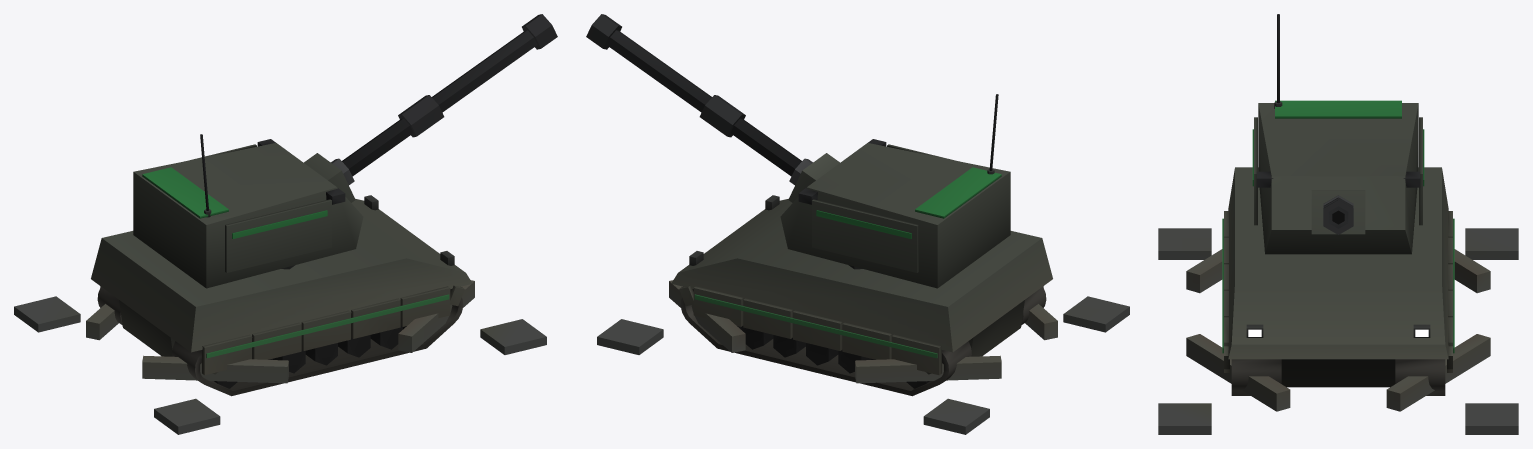
The model's file is u_arty_lod1.glb.
3 renders of one model, left to right at view 1: azimuth 30°, elevation 25°; view 2: azimuth 150°, elevation 25°; view 3: azimuth 270°, elevation 25°, orthographic. The views are drawn at different scales.
Parts seen in each view (by area): view 1: Arty_LOD1_Walls, Arty_LOD1_turret, Arty_LOD1_spade, Arty_LOD1_Foundation, Arty_LOD1_Details; view 2: Arty_LOD1_Walls, Arty_LOD1_turret, Arty_LOD1_spade, Arty_LOD1_Foundation, Arty_LOD1_Details; view 3: Arty_LOD1_Walls, Arty_LOD1_turret, Arty_LOD1_spade, Arty_LOD1_Foundation, Arty_LOD1_Details.
Boxes of the visible parts, x1,y1,x2,y2 form: Arty_LOD1_Walls: (91,199,472,375); Arty_LOD1_turret: (133,14,557,288); Arty_LOD1_spade: (14,280,546,434); Arty_LOD1_Foundation: (97,287,463,396); Arty_LOD1_Details: (206,195,454,358); Arty_LOD1_Walls: (671,199,1052,375); Arty_LOD1_turret: (586,14,1010,288); Arty_LOD1_spade: (597,280,1129,434); Arty_LOD1_Foundation: (680,287,1046,396); Arty_LOD1_Details: (689,195,937,358); Arty_LOD1_Walls: (1224,167,1452,387); Arty_LOD1_turret: (1252,14,1424,254); Arty_LOD1_spade: (1158,228,1518,434); Arty_LOD1_Foundation: (1231,359,1445,395); Arty_LOD1_Details: (1222,218,1454,353).
Size of the model in its own units: 1.74 by 0.9396 by 1.08.
